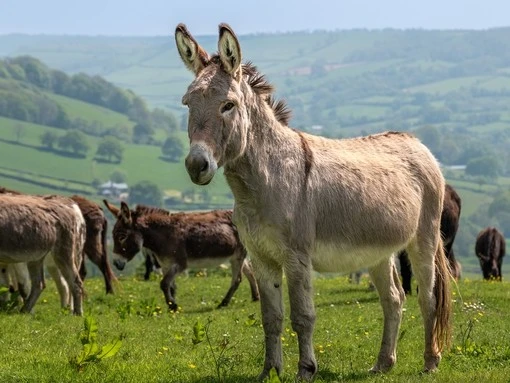donkey: (172, 19, 457, 381)
